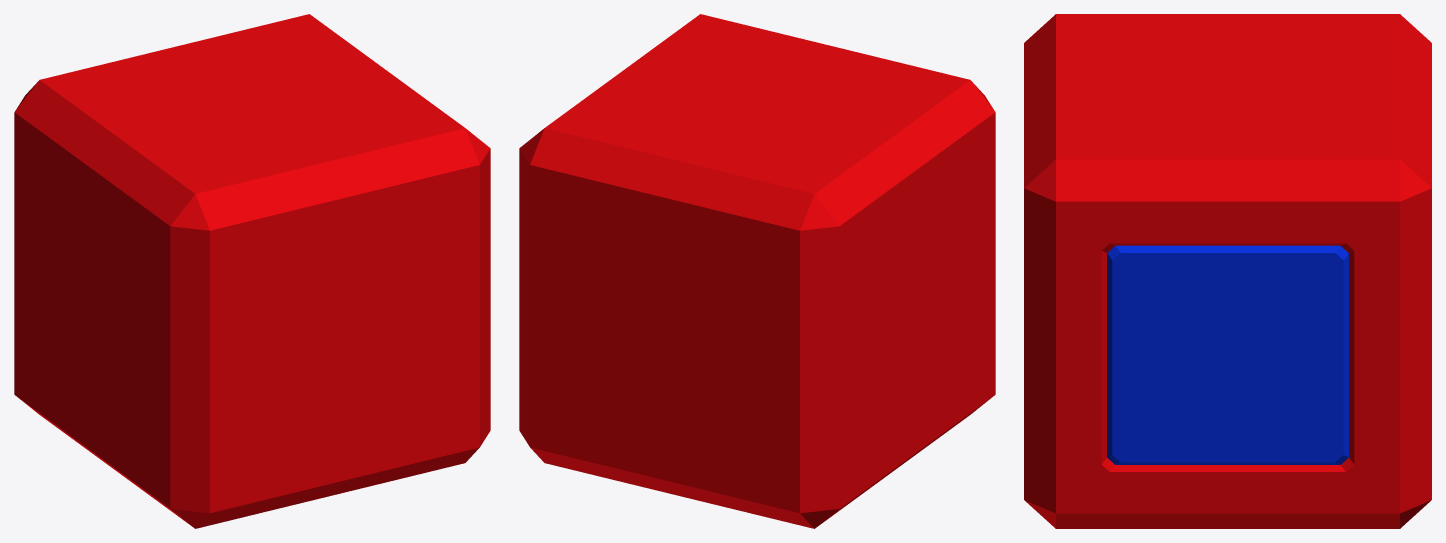
3 renders of one model, left to right at view 1: azimuth 30°, elevation 25°; view 2: azimuth 150°, elevation 25°; view 3: azimuth 270°, elevation 25°, orthographic. The views are drawn at different scales.
Visible parts, largest first — view 1: Cube; view 2: Cube; view 3: Cube.
Boxes of the visible parts, bbox=[...] form: Cube: bbox=[14, 14, 490, 528]; Cube: bbox=[519, 14, 995, 528]; Cube: bbox=[1024, 14, 1431, 528].
Size of the model in its own units: 200 by 200 by 200.
